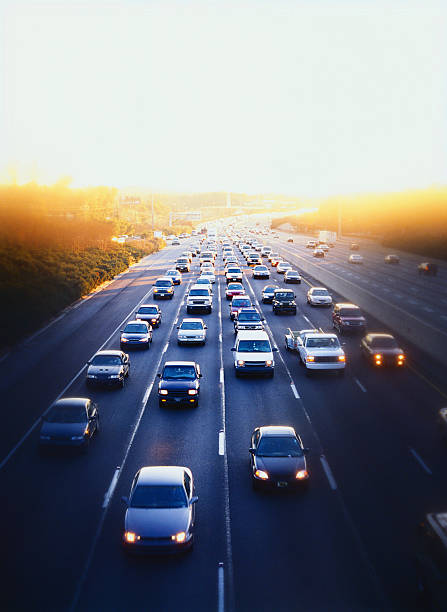car: (124, 466, 194, 550), (249, 424, 308, 488), (37, 399, 97, 445), (297, 332, 347, 381), (156, 360, 202, 412), (233, 330, 275, 379), (84, 350, 128, 388), (364, 329, 401, 371), (332, 304, 364, 336), (188, 281, 214, 315), (178, 316, 206, 345), (272, 288, 300, 317), (121, 319, 150, 345), (134, 304, 160, 329), (235, 306, 262, 326), (153, 278, 175, 299), (306, 286, 328, 307), (225, 268, 241, 283), (252, 266, 270, 279), (175, 260, 190, 275)
